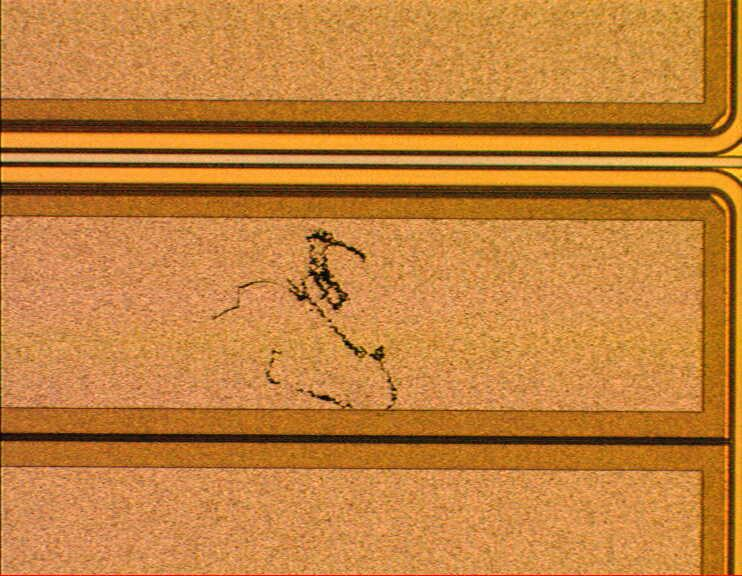SCRATCH: (205, 224, 410, 425)
